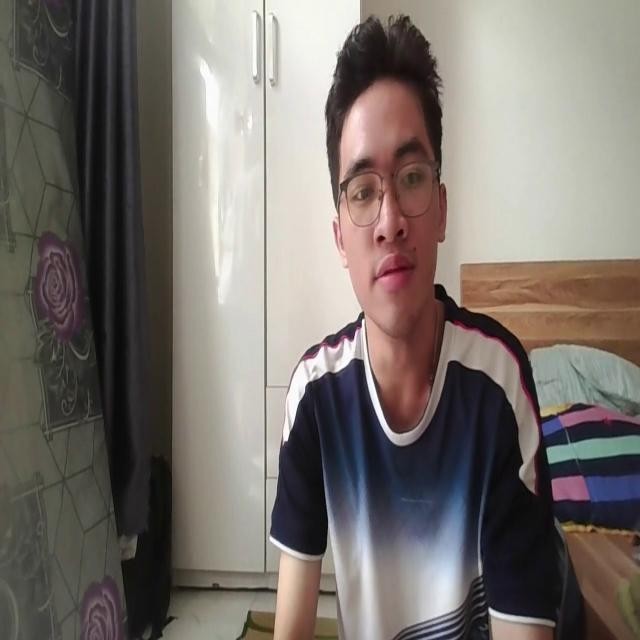student: (258, 12, 554, 640)
